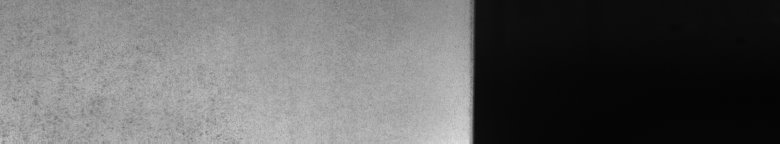ib: (4, 45, 151, 130)
